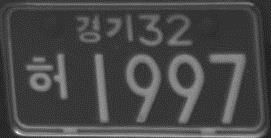1: (89, 51, 116, 125)
2: (166, 12, 192, 48)
3: (140, 12, 165, 44)
7: (206, 51, 248, 125)
9: (122, 52, 163, 123), (166, 51, 205, 125)
경기_O: (74, 13, 134, 45)
허: (25, 51, 72, 102)
